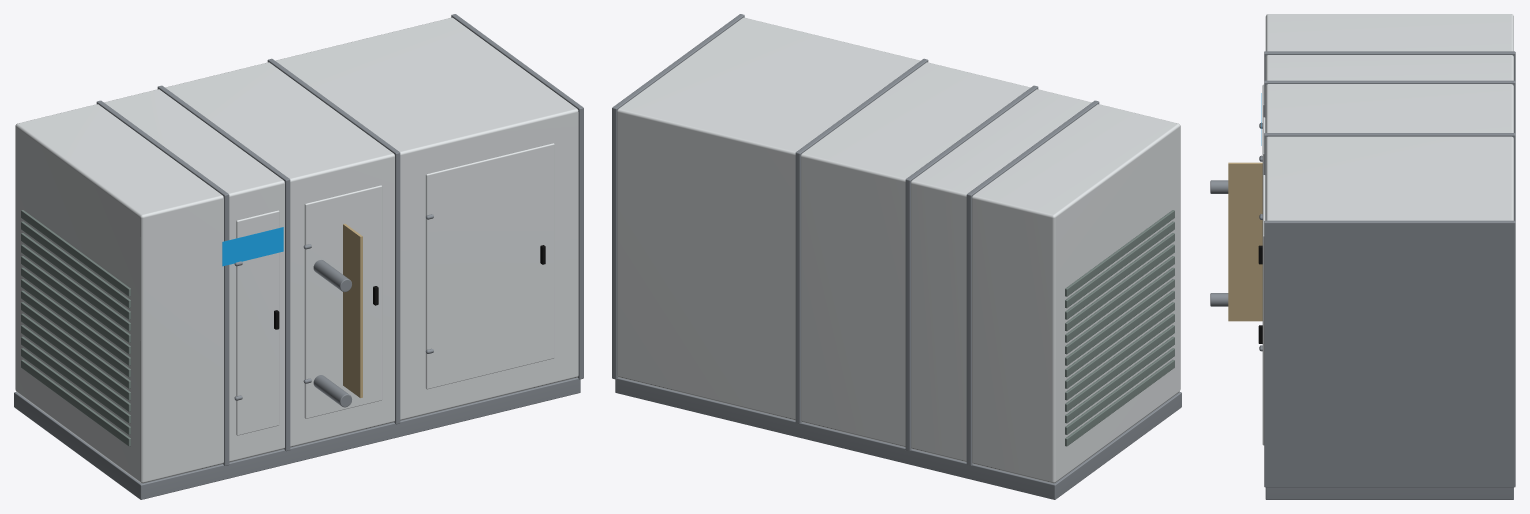
The model's file is ahu.glb.
3 views of the same model, side by side, from view 1: azimuth 30°, elevation 25°; view 2: azimuth 150°, elevation 25°; view 3: azimuth 270°, elevation 25° (orthographic). The views are drawn at different scales.
Parts seen in each view (by area): view 1: casing, screen; view 2: casing; view 3: casing.
Boxes of the visible parts, bbox=[...] form: casing: bbox=[14, 14, 583, 499]; screen: bbox=[222, 227, 283, 266]; casing: bbox=[612, 14, 1181, 499]; casing: bbox=[1210, 14, 1515, 499].
Size of the model in its own units: 3.64 by 2.23 by 2.21.
